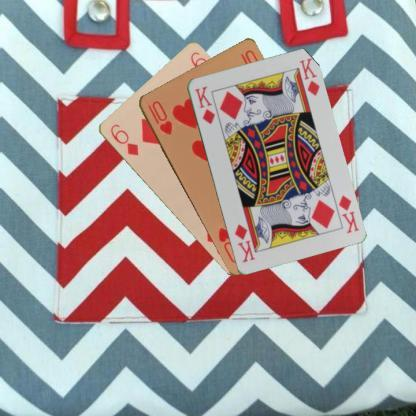10h: (144, 98, 173, 136)
6d: (107, 121, 140, 157)
Kd: (335, 192, 360, 235), (192, 84, 216, 126)
